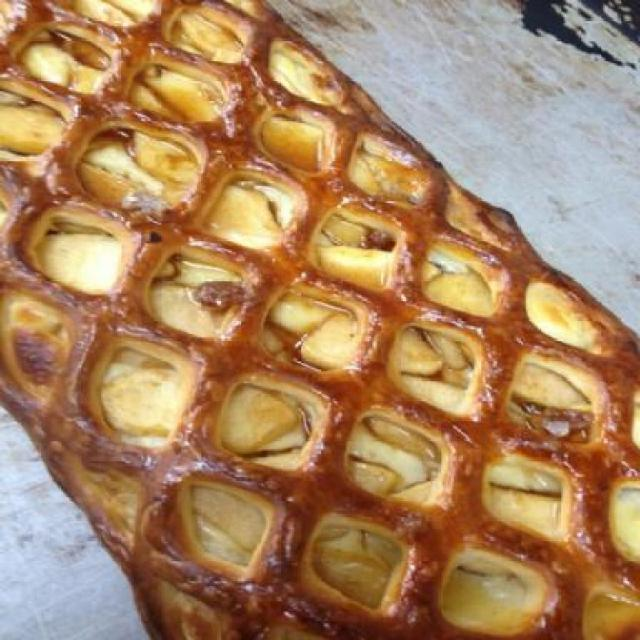Apple: (1, 3, 634, 639)
